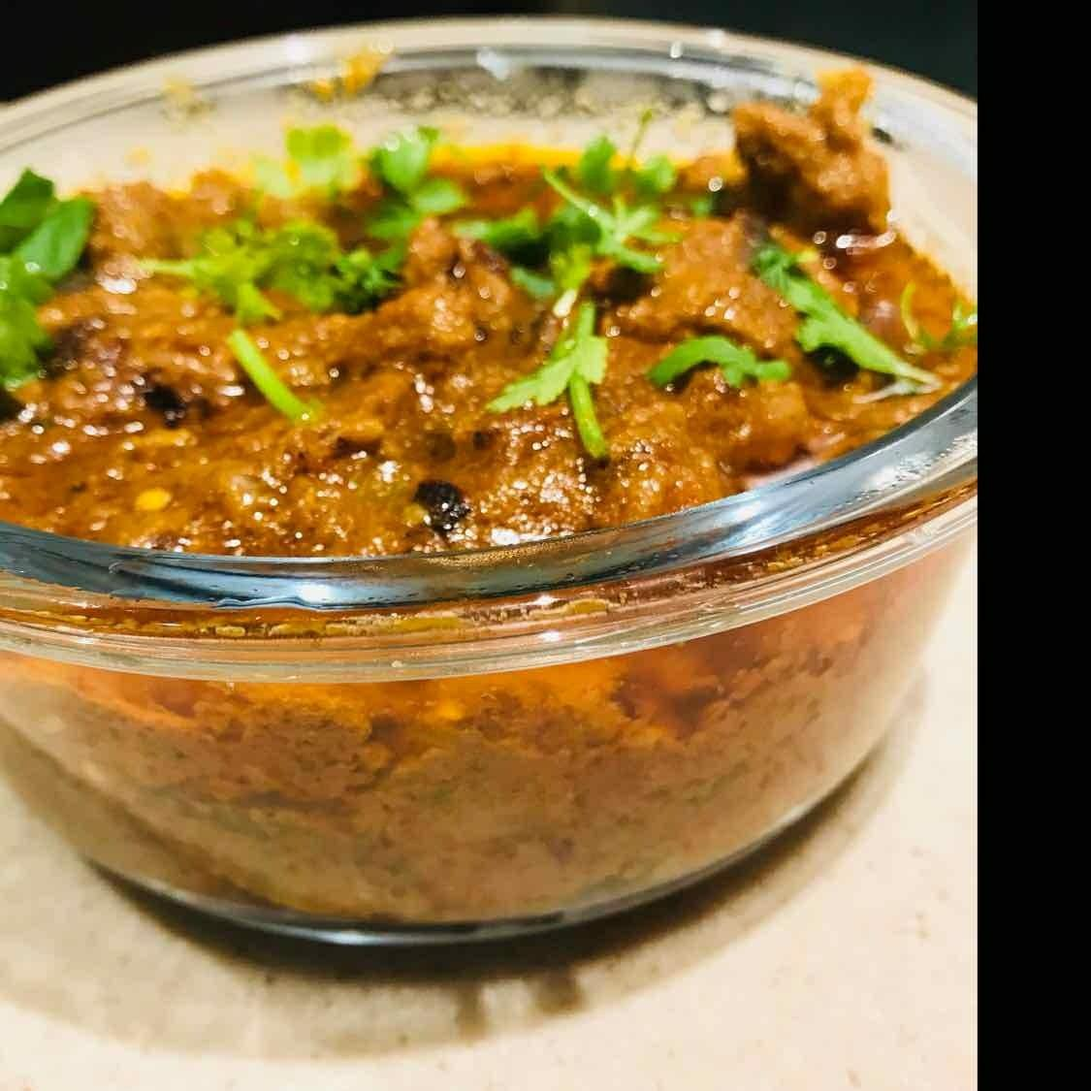MuttonCurry: (0, 69, 975, 550)
